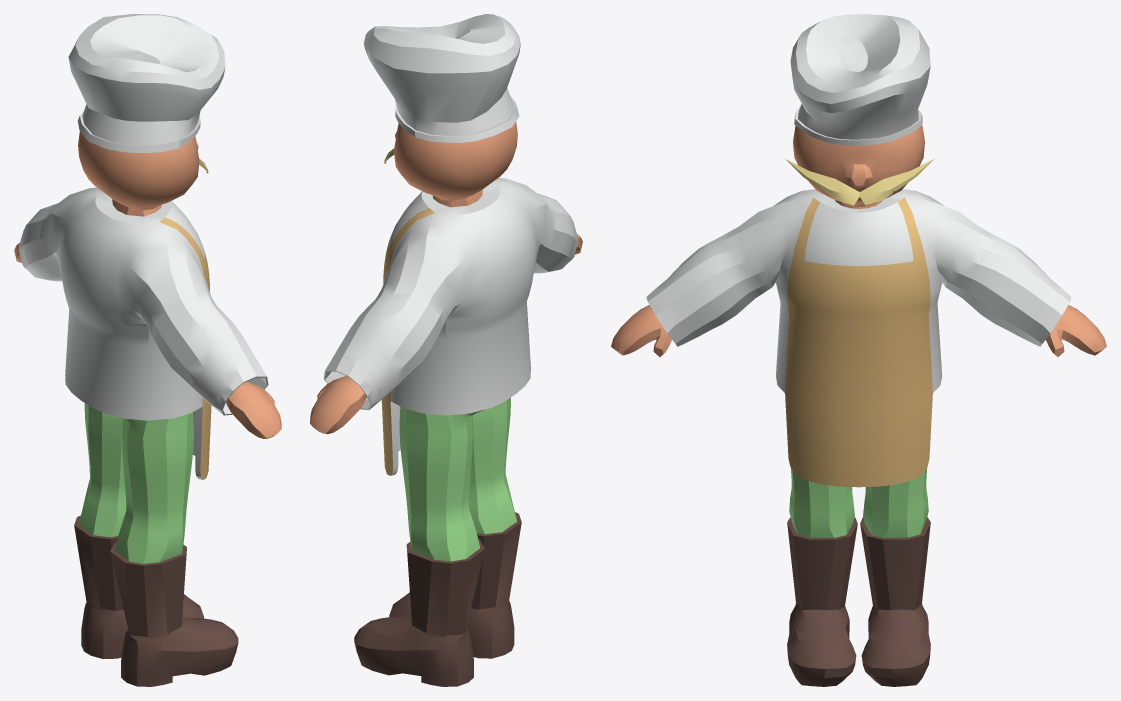
File: Cook1.fbx
3 renders of one model, left to right at view 1: azimuth 30°, elevation 25°; view 2: azimuth 150°, elevation 25°; view 3: azimuth 270°, elevation 25°, orthographic. The views are drawn at different scales.
Visible parts, largest first — view 1: arms.002, Chef hat.001; view 2: arms.002, Chef hat.001; view 3: arms.002, Chef hat.001, mustache.003.
Part boxes in pixels (x1,y1,x2,y2): arms.002: (14, 131, 281, 686); Chef hat.001: (68, 14, 225, 152); arms.002: (310, 121, 582, 686); Chef hat.001: (363, 14, 520, 142); arms.002: (611, 125, 1106, 686); Chef hat.001: (790, 14, 930, 145); mustache.003: (785, 159, 933, 205).
Size of the model in its own units: 48.37 by 201 by 144.
